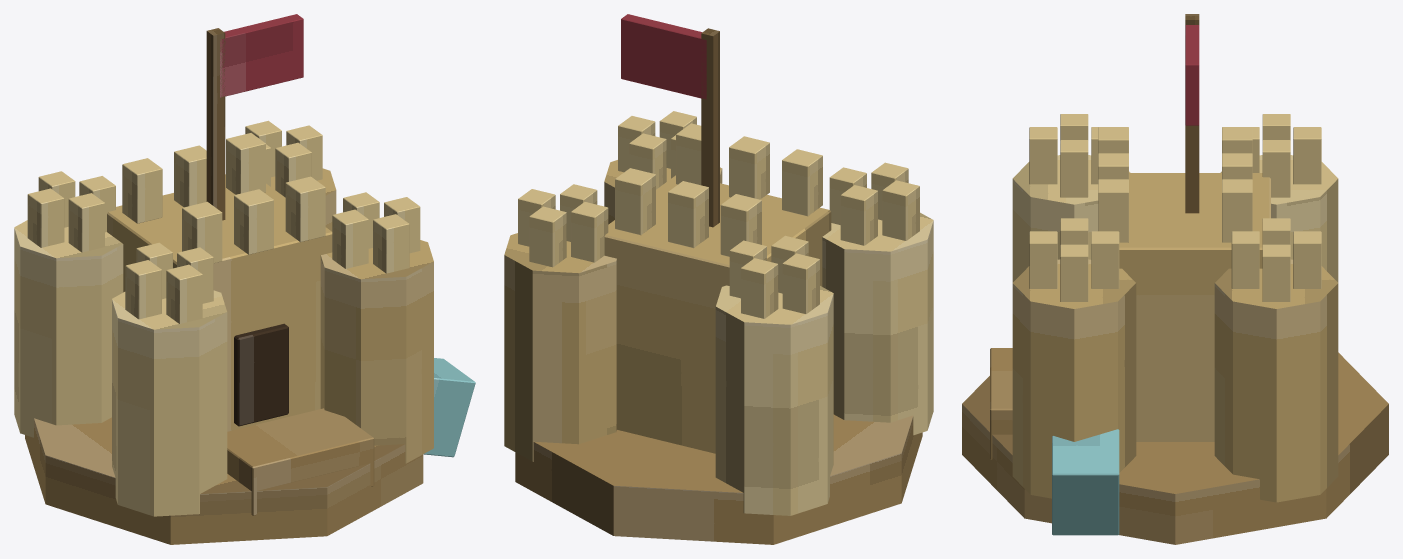
The model's file is sand_castle.glb.
3 views of the same model, side by side, from view 1: azimuth 30°, elevation 25°; view 2: azimuth 150°, elevation 25°; view 3: azimuth 270°, elevation 25° (orthographic). The views are drawn at different scales.
Parts seen in each view (by area): view 1: CornerTower_1, SandMound, CornerTower_2, CornerTower_3, CentralKeep, FrontStep, Flag, CastleArch, FlagPole, LostBucket, KeepCrenel_4, KeepCrenel_3 (+20 smaller); view 2: SandMound, CentralKeep, CornerTower_3, CornerTower_4, CornerTower_1, Flag, FlagPole, KeepCrenel_5, KeepCrenel_1, KeepCrenel_6, KeepCrenel_2, KeepCrenel_4 (+17 smaller); view 3: CornerTower_4, SandMound, CentralKeep, CornerTower_2, LostBucket, CornerTower_1, CornerTower_3, FrontStep, KeepCrenel_3, KeepCrenel_6, TowerCrenel_1_3, TowerCrenel_3_4 (+18 smaller).
Boxes of the visible parts, <box> form: CornerTower_1: <box>112,290,227,516</box>; SandMound: <box>25,417,423,544</box>; CornerTower_2: <box>320,240,433,463</box>; CornerTower_3: <box>14,220,123,437</box>; CentralKeep: <box>107,180,332,431</box>; FrontStep: <box>227,408,374,515</box>; Flag: <box>220,14,303,97</box>; CastleArch: <box>234,323,288,426</box>; FlagPole: <box>206,28,225,220</box>; LostBucket: <box>423,358,475,457</box>; KeepCrenel_4: <box>122,158,162,223</box>; KeepCrenel_3: <box>285,176,325,242</box>; SandMound: <box>515,414,922,544</box>; CentralKeep: <box>604,175,831,453</box>; CornerTower_3: <box>715,285,833,515</box>; CornerTower_4: <box>504,233,616,461</box>; CornerTower_1: <box>822,212,933,435</box>; Flag: <box>621,14,706,99</box>; FlagPole: <box>701,28,719,227</box>; KeepCrenel_5: <box>668,181,708,247</box>; KeepCrenel_1: <box>782,149,822,216</box>; KeepCrenel_6: <box>615,168,655,235</box>; KeepCrenel_2: <box>729,136,769,199</box>; KeepCrenel_4: <box>720,194,761,256</box>; CornerTower_4: <box>1214,259,1338,502</box>; SandMound: <box>962,352,1388,544</box>; CentralKeep: <box>1119,173,1270,441</box>; CornerTower_2: <box>1012,259,1136,498</box>; LostBucket: <box>1052,429,1119,535</box>; CornerTower_1: <box>1012,155,1130,282</box>; CornerTower_3: <box>1220,155,1338,282</box>; FrontStep: <box>990,348,1012,459</box>; KeepCrenel_3: <box>1098,179,1128,242</box>; KeepCrenel_6: <box>1222,179,1252,242</box>; TowerCrenel_1_3: <box>1029,127,1057,184</box>; TowerCrenel_3_4: <box>1293,127,1321,184</box>.
Bounding box in the file's own units: 0.7896 × 0.86 × 0.76.
Materials: 1 (1 with a texture image).
